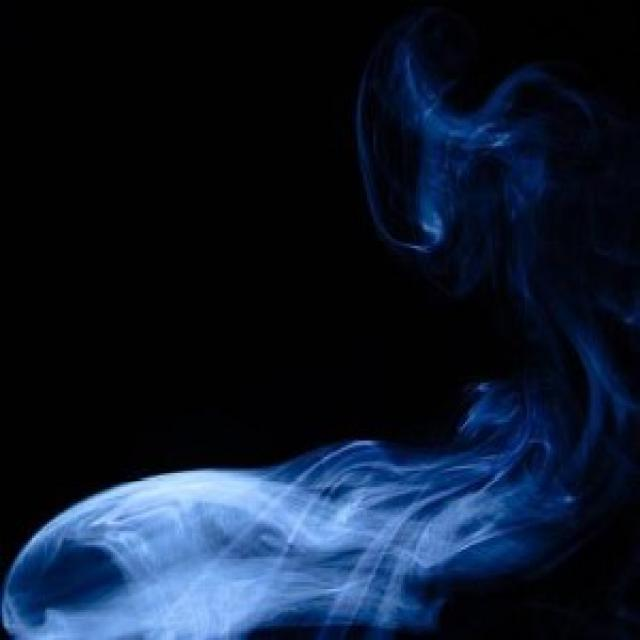Jellyfish: (0, 423, 611, 640)
